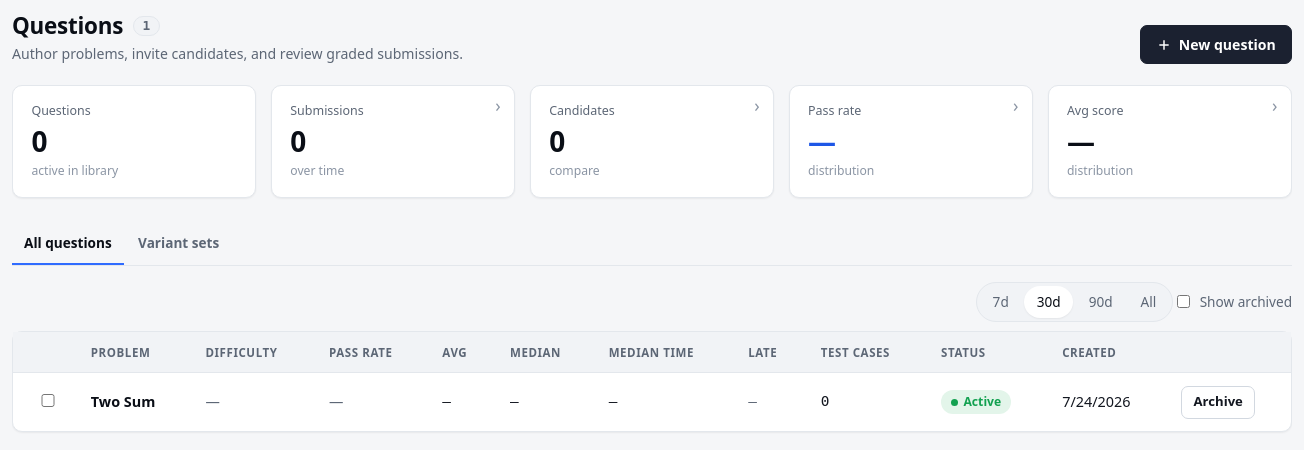
DashboardPage — one destination for the library (U06, U07) › shows variant sets as a tab of this page rather than a place of their own
The image size is (1304, 450).
Expected: the link "Two Sum" is shown, [91,392,155,411]
Expected: the link "New question" is shown, [1140,25,1292,64]
Click the tab "Variant sets": {"x": 179, "y": 244} [126,223,231,265]
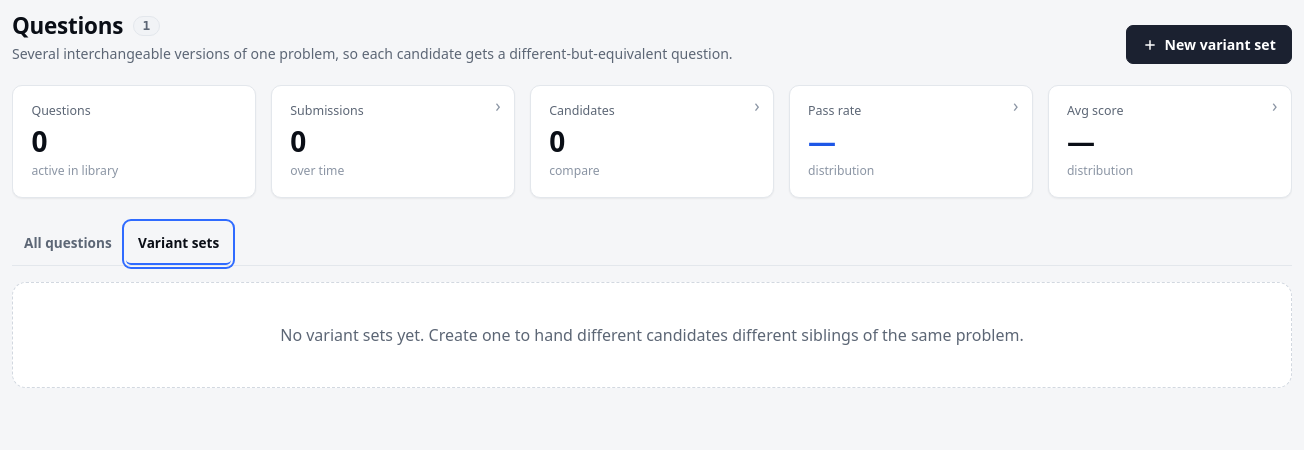
Now the link "Two Sum" is gone
Now the text "No variant sets yet" is shown, box [280,324,1024,346]
